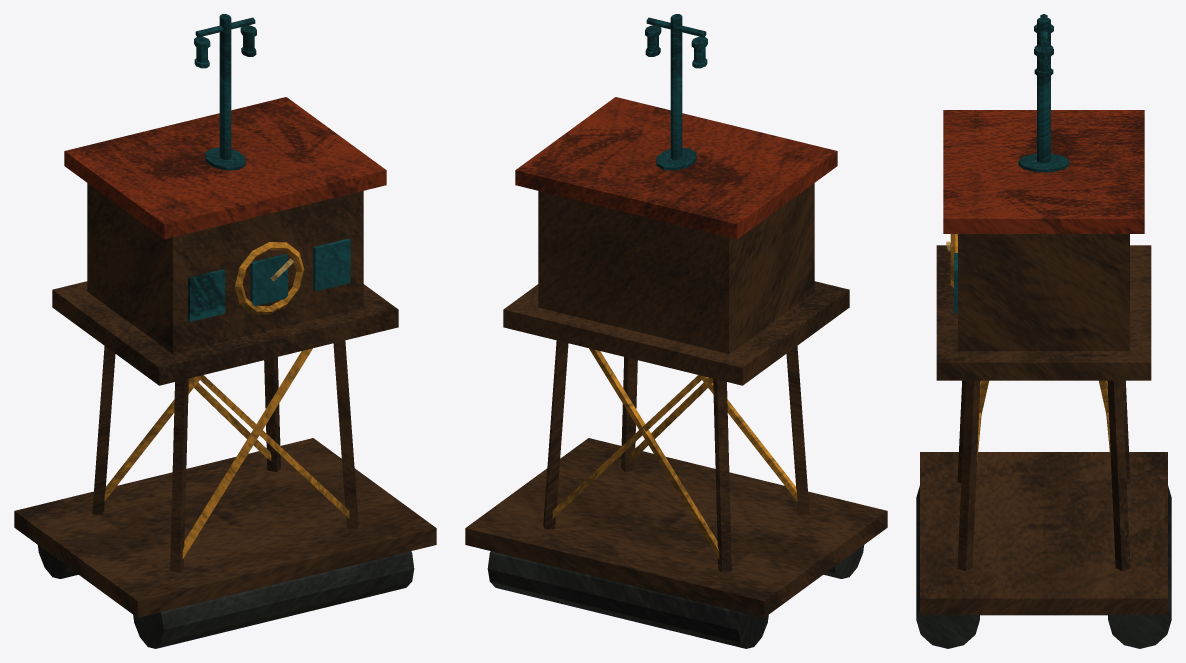
Rendered from judges-tower.glb.
The picture shows the model from 3 angles, left to right: view 1: azimuth 30°, elevation 25°; view 2: azimuth 150°, elevation 25°; view 3: azimuth 270°, elevation 25°; orthographic projection.
Visible parts, largest first — view 1: judges-tower; view 2: judges-tower; view 3: judges-tower.
Boxes of the visible parts, x1,y1,x2,y2 form: judges-tower: (14,14,436,648); judges-tower: (465,14,887,648); judges-tower: (916,14,1171,648).
Size of the model in its own units: 5.25 by 9.48 by 3.86.
1 material, 1 textured.
